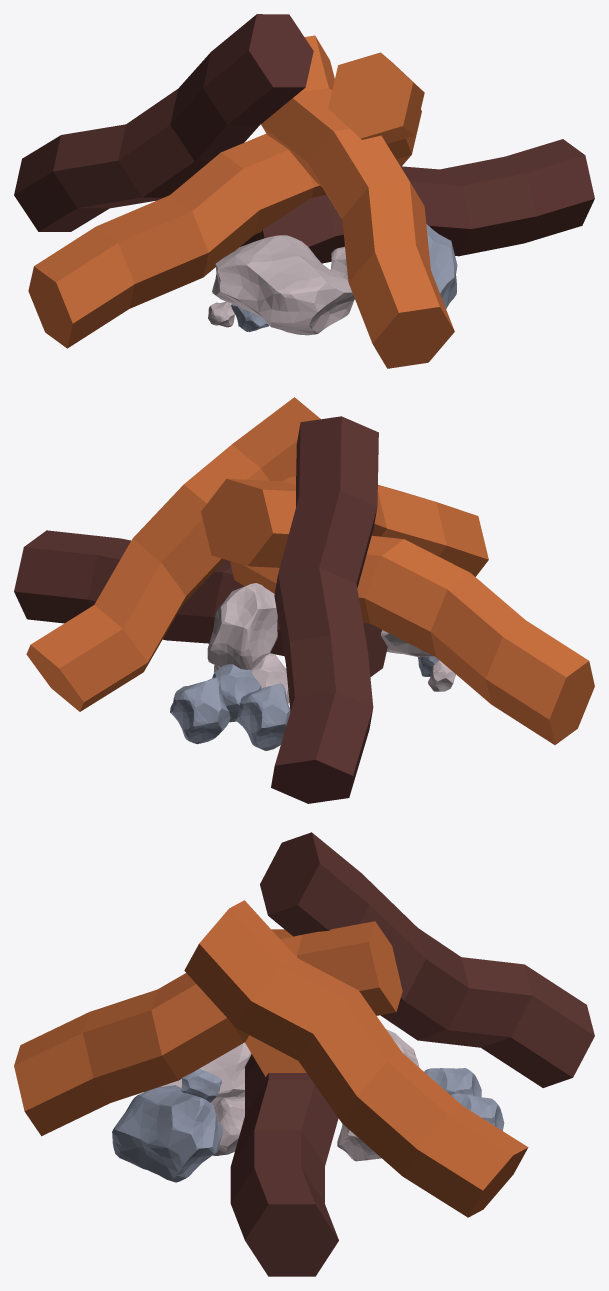
The model's file is Campfire.fbx.
3 views of the same model, one above another, from view 1: azimuth 30°, elevation 25°; view 2: azimuth 150°, elevation 25°; view 3: azimuth 270°, elevation 25° (orthographic). The views are drawn at different scales.
Visible parts, largest first — view 1: Campfire; view 2: Campfire; view 3: Campfire.
Part boxes in pixels (bbox=[...]): Campfire: bbox=[14, 14, 594, 368]; Campfire: bbox=[14, 397, 594, 803]; Campfire: bbox=[14, 832, 594, 1276].
Size of the model in its own units: 153 by 77.37 by 138.
